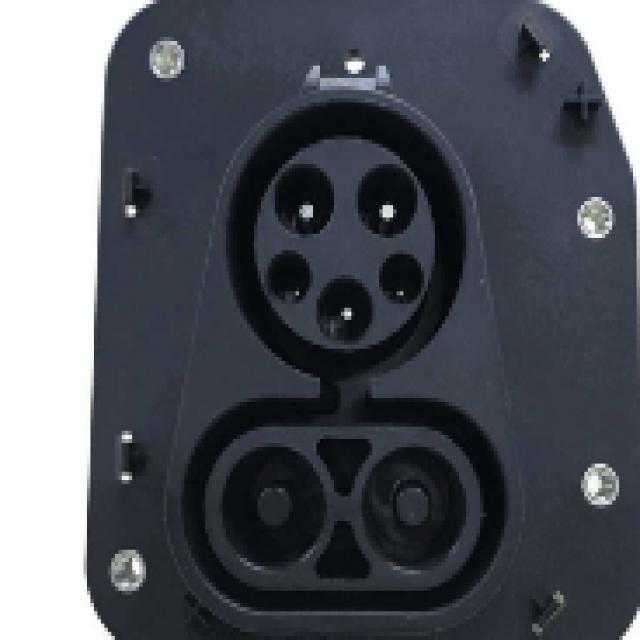CCS1: (157, 130, 513, 630)
